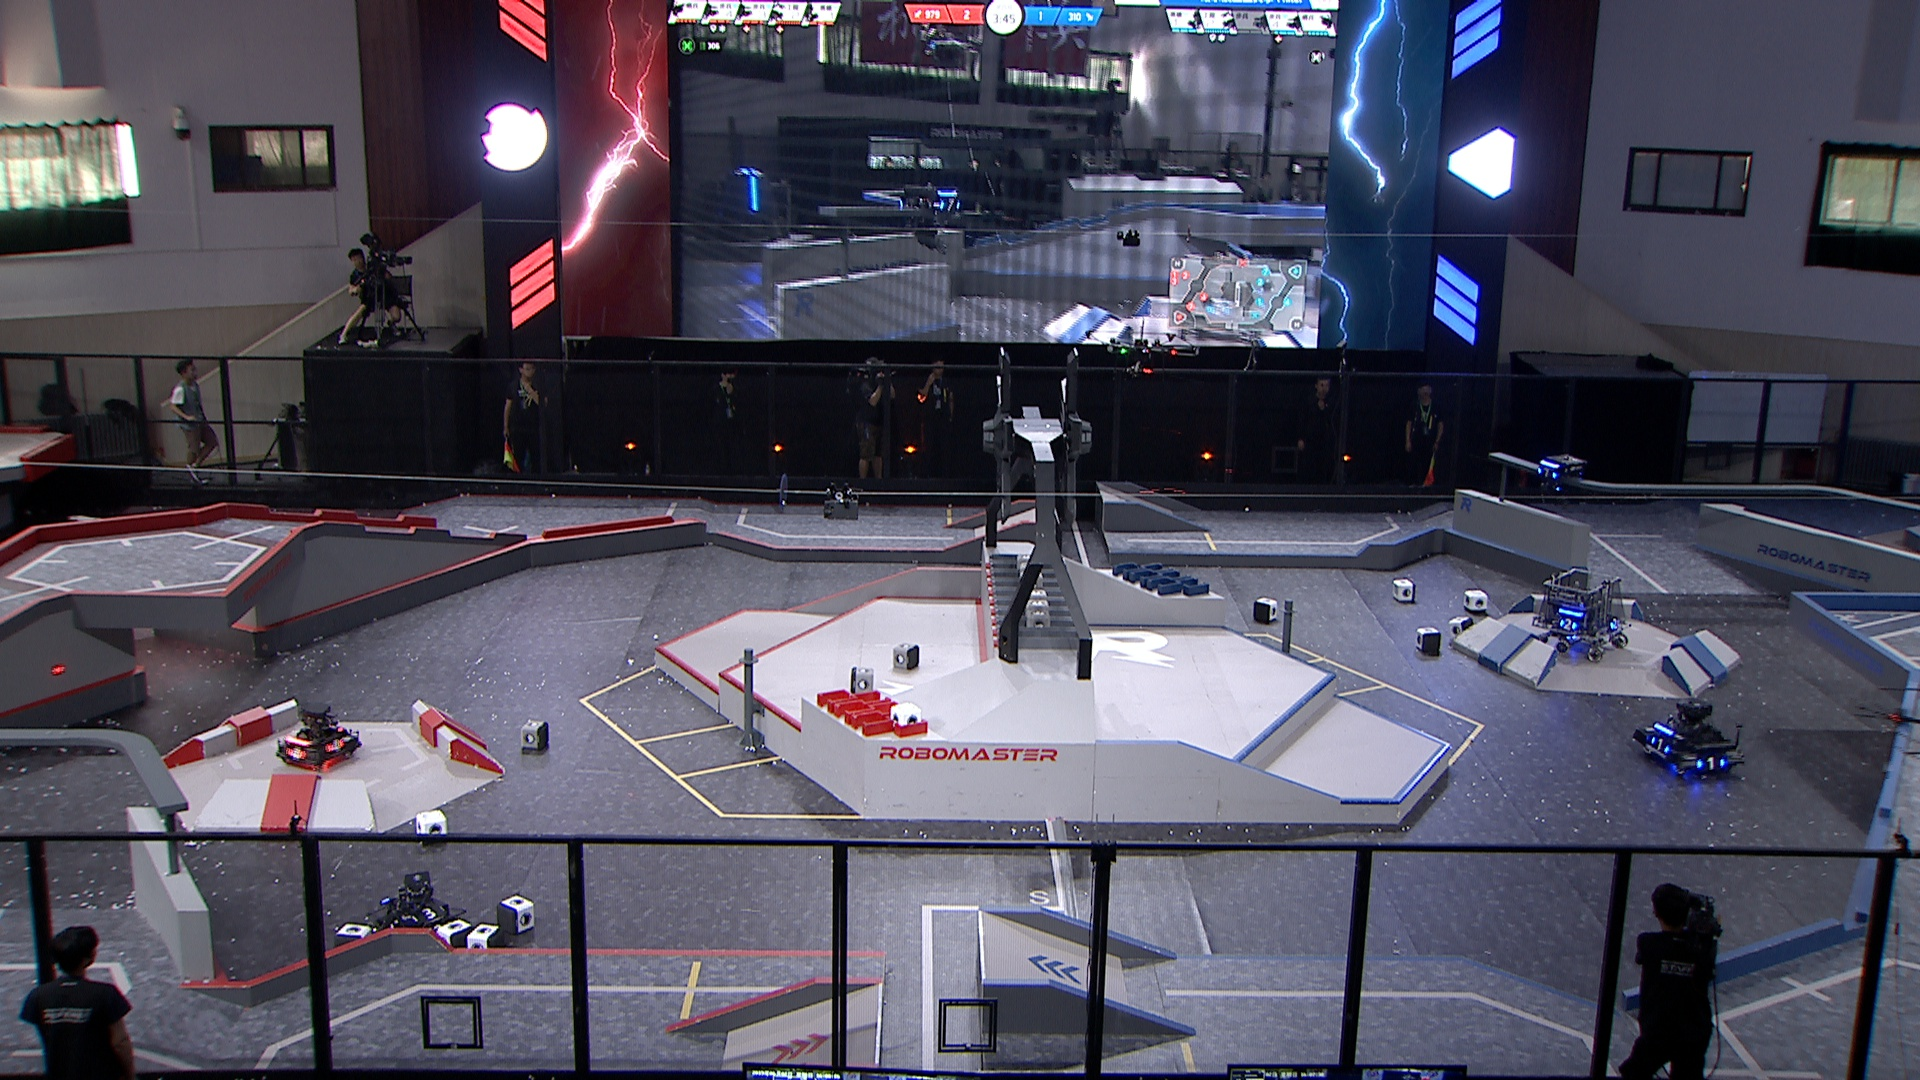armor: (410, 902, 443, 926), (1695, 756, 1727, 773), (1650, 736, 1671, 754), (284, 746, 305, 764), (1536, 467, 1560, 480), (1556, 618, 1577, 632), (327, 738, 345, 752), (1607, 618, 1619, 628)
car: (1633, 698, 1749, 782), (1532, 567, 1634, 659), (367, 868, 467, 948), (276, 698, 363, 770)
ignore: (702, 164, 785, 243)
watcher: (1528, 447, 1585, 505)
